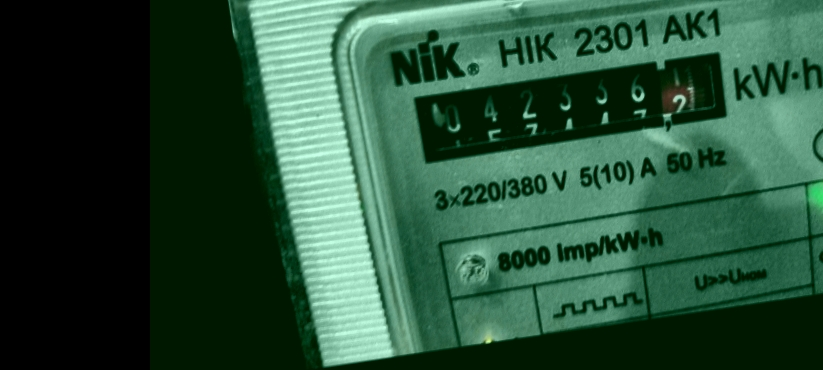0: (441, 100, 465, 135)
1: (668, 61, 684, 89)
2: (516, 84, 542, 121), (669, 92, 689, 115)
3: (552, 78, 575, 113), (591, 73, 612, 107)
4: (480, 90, 502, 124)
6: (626, 69, 651, 106)
screen: (400, 36, 745, 175)
